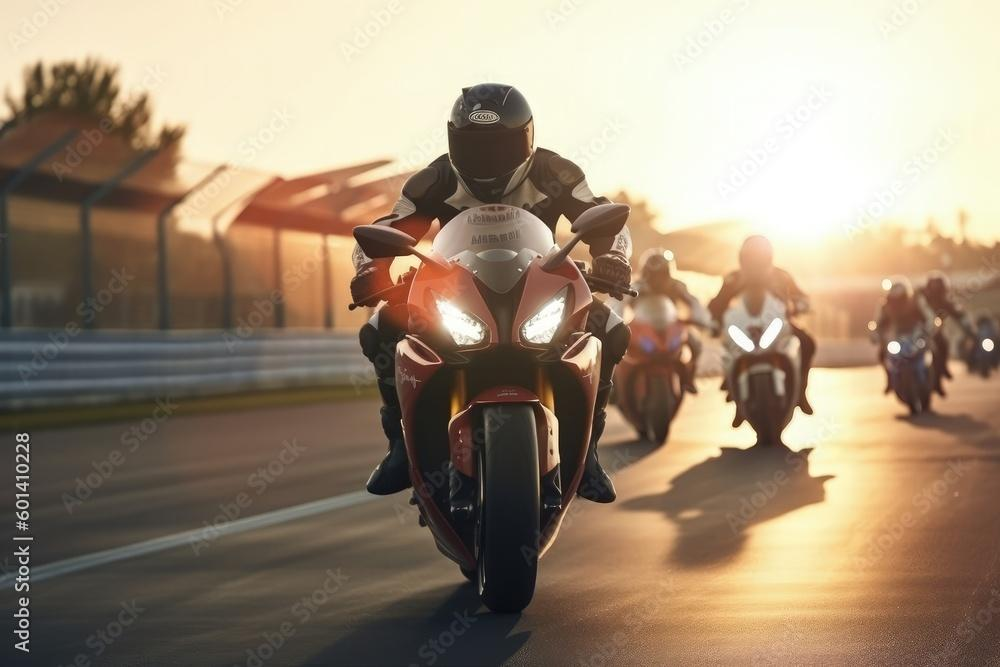helmet: (446, 81, 535, 205)
